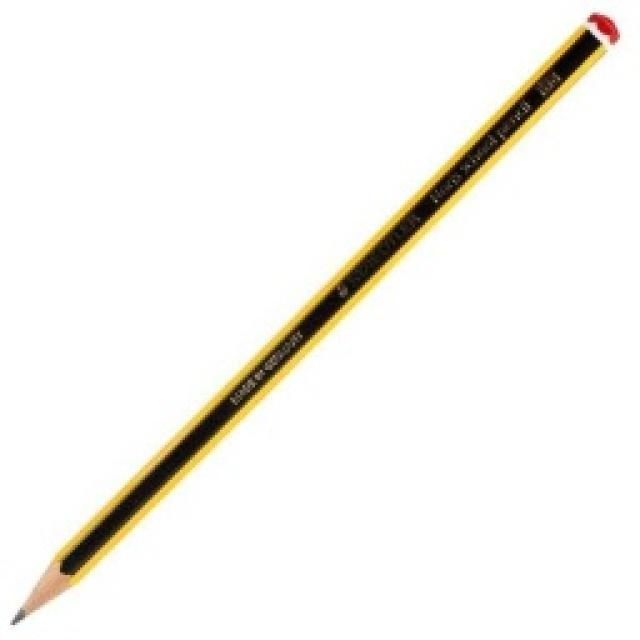pencil: (5, 5, 623, 627)
